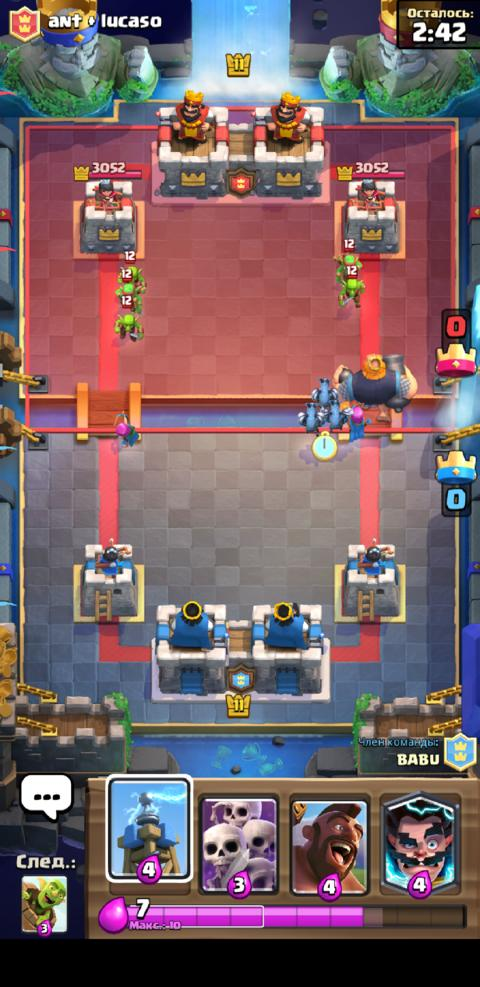ally_archer: (111, 409, 139, 449), (346, 403, 369, 442)
ally_minion: (297, 400, 324, 436), (323, 399, 347, 432), (310, 375, 338, 403)
ally_royale_giant: (330, 352, 417, 423)
enemy_goblin: (112, 294, 144, 343), (113, 268, 141, 320), (335, 264, 365, 309)
enemy_spear_goblin: (332, 238, 362, 283), (115, 250, 145, 288)
